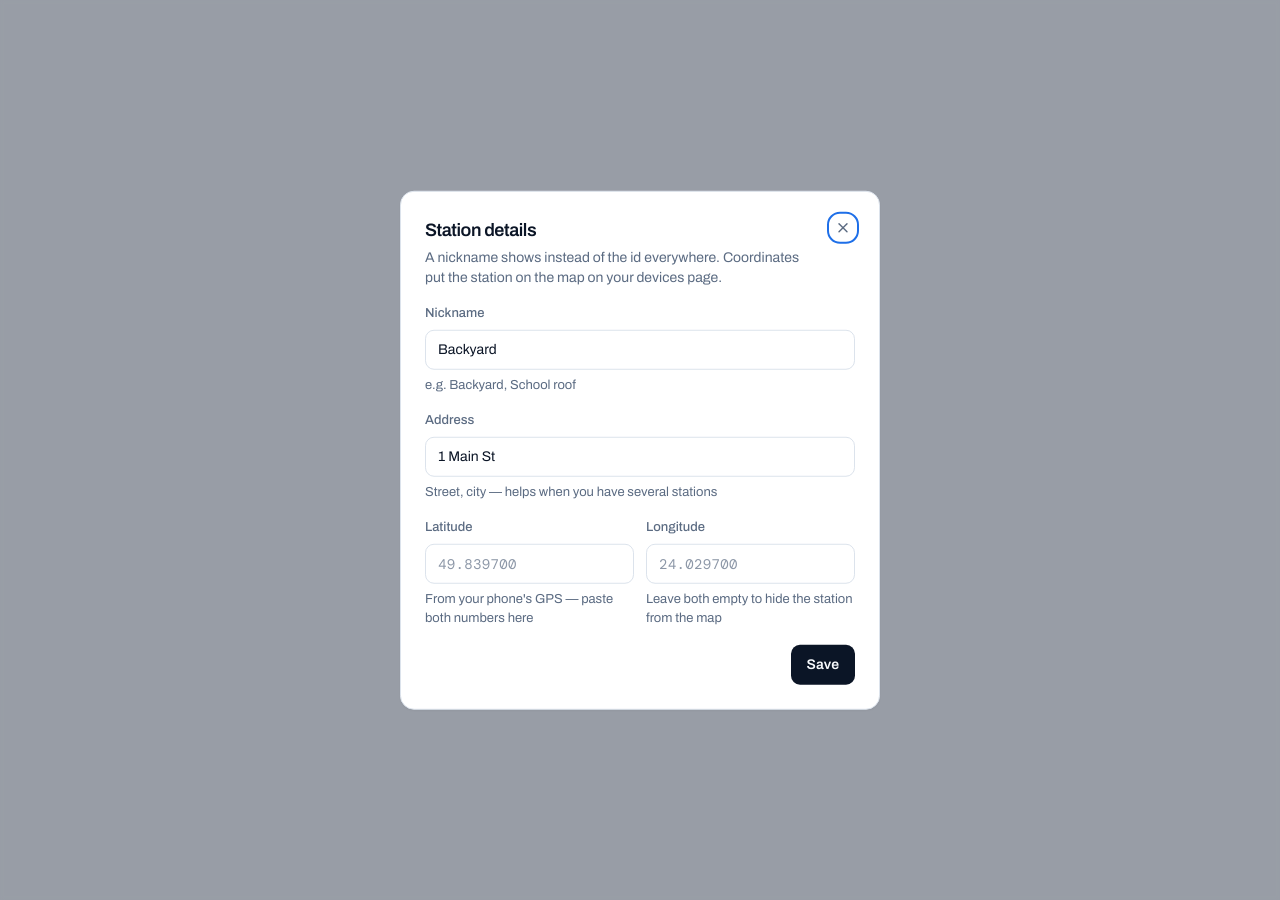
Test case: DeviceProfileDialog coordinates › splits a pasted "lat, lng" pair across both fields
Click the field with test id "pd-latitude-input": [530, 563] box x1=425 y1=543 x2=634 y2=583
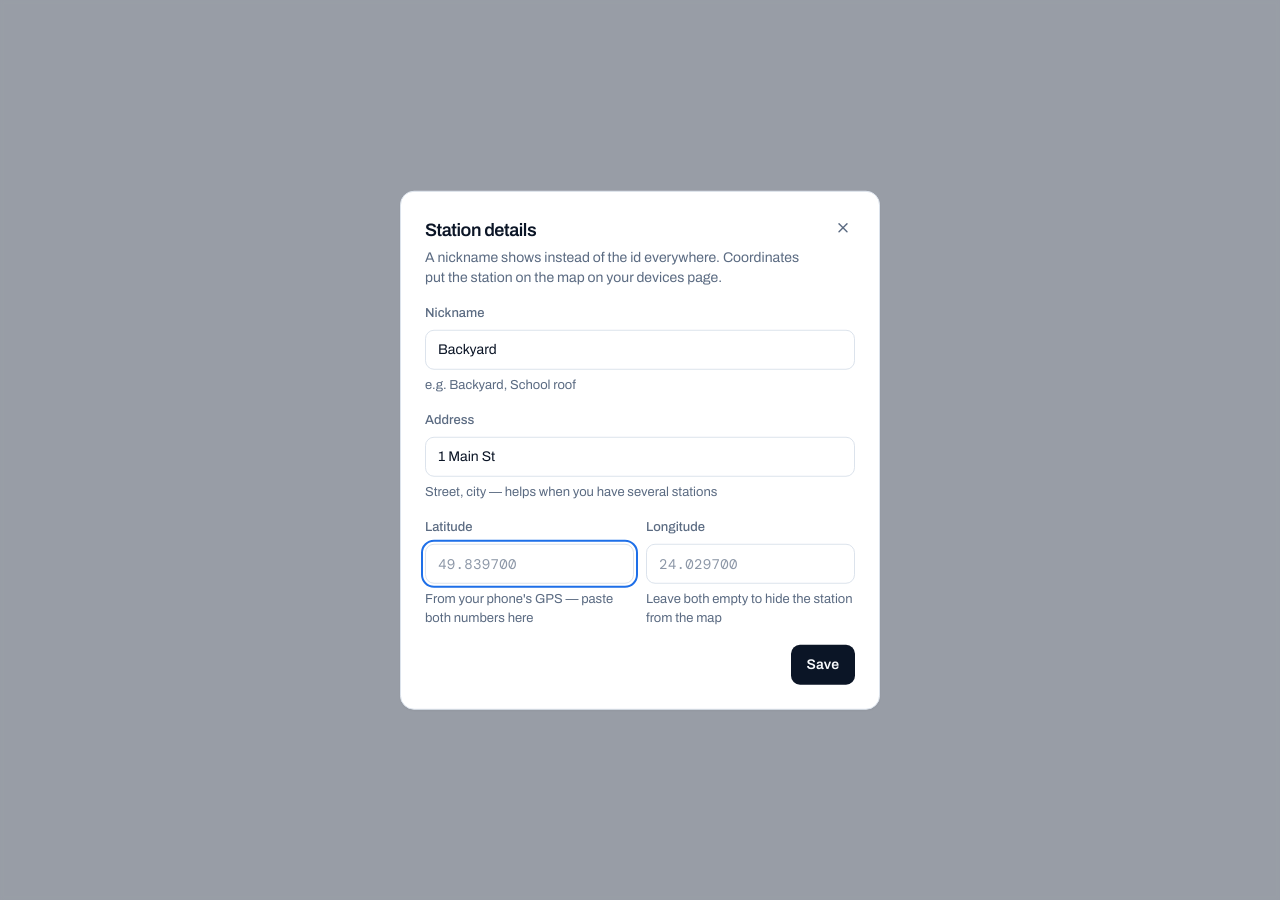
Type keys "49.8397, 24.0297"
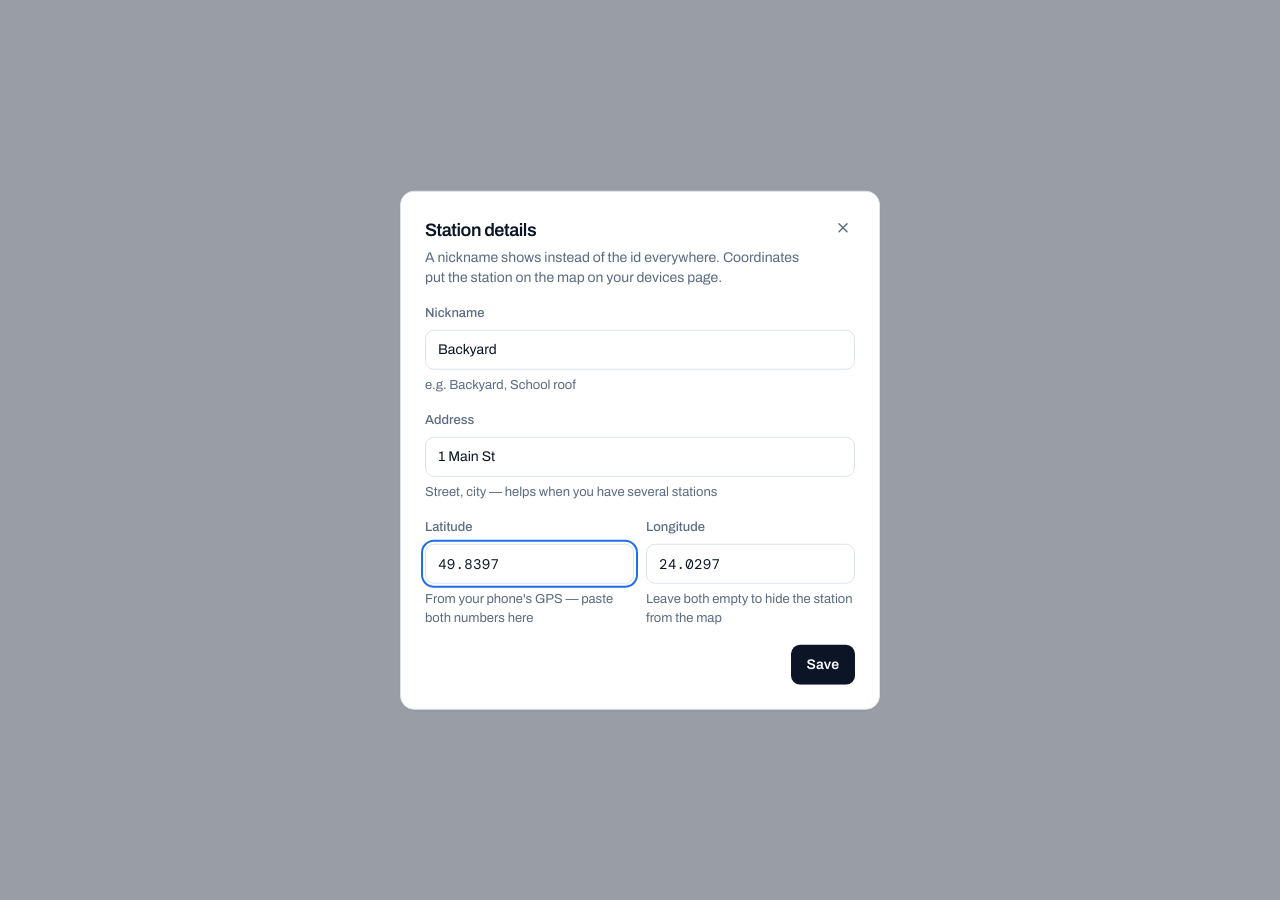
Check: the field with test id "pd-latitude-input" holds "49.8397", box x1=425 y1=543 x2=634 y2=583
Check: the field with test id "pd-longitude-input" holds "24.0297", box x1=646 y1=543 x2=855 y2=583
